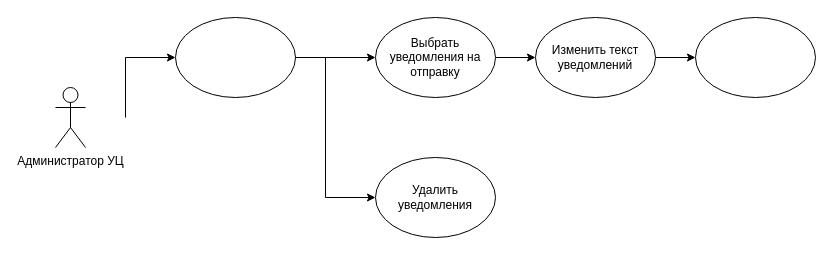
Some shapes in this 833 by 255 pixel diagram are drawn without their labels. The shapes that lost their labels are listed below. From the top down, each one's centre as x and y in pixels, then its label:
At point 235,57: "Просмотреть уведомления для рассылки".
At point 755,57: "Отправить почтовое сообщение".
